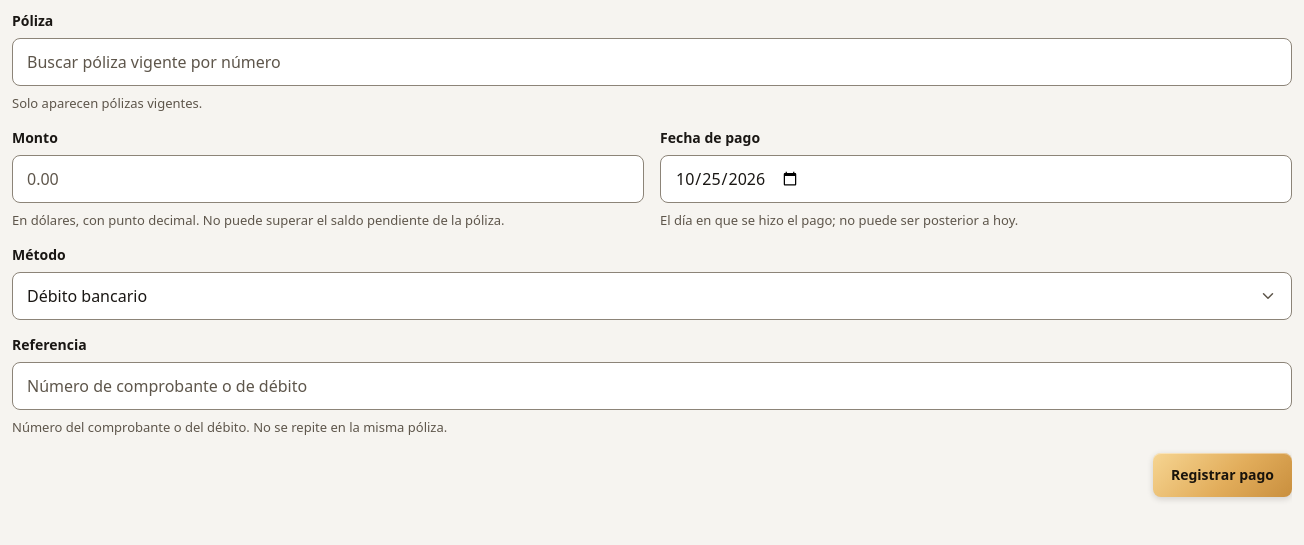
FormularioPago (HU-16) › muestra la póliza no vigente bajo la póliza
The image size is (1304, 545).
Type "POL" into the dropdown labelled "Póliza" at (652, 62), box [12, 38, 1292, 86]
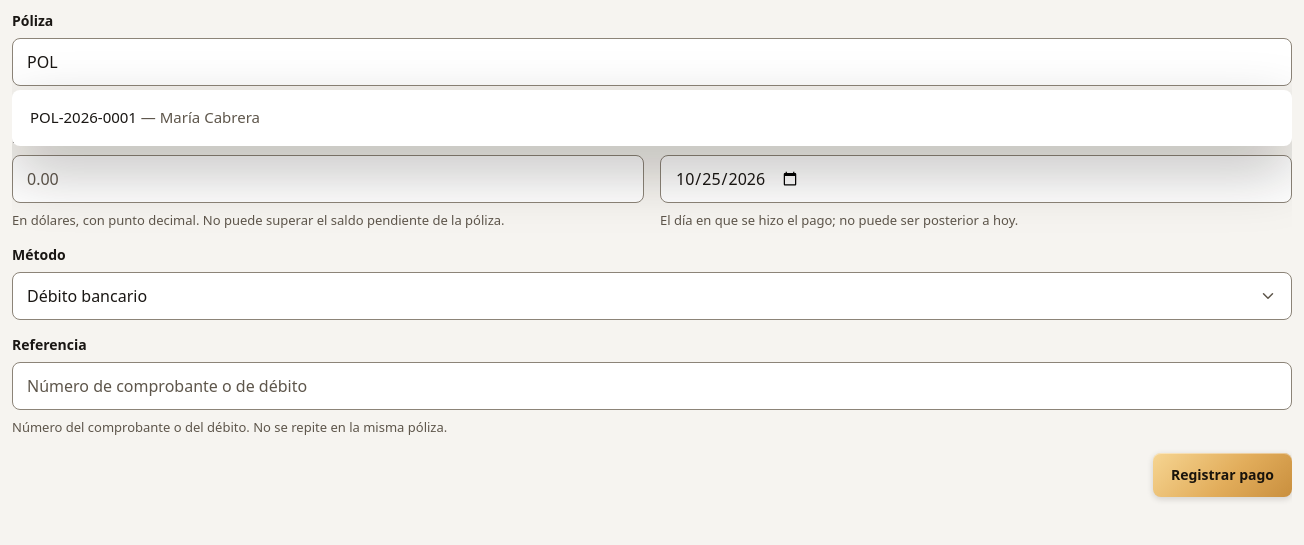
Click the option "POL-2026-0001 — María Cabrera" at (145, 117), box [30, 107, 260, 127]
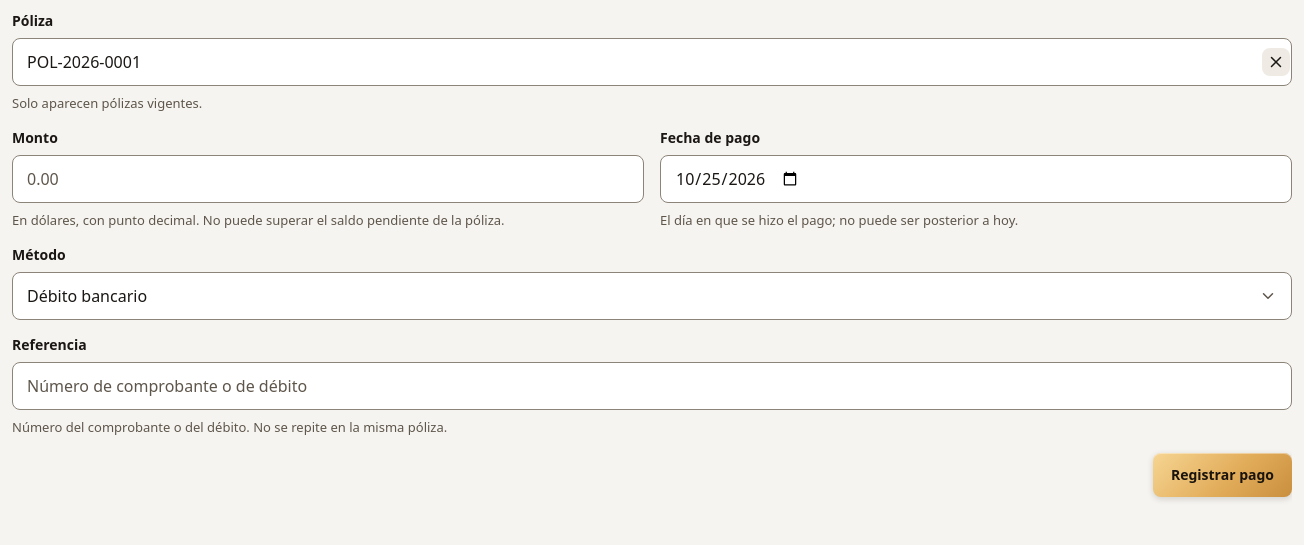
Type "10.00" into the field labelled "Monto" at (328, 179), box [12, 155, 644, 203]
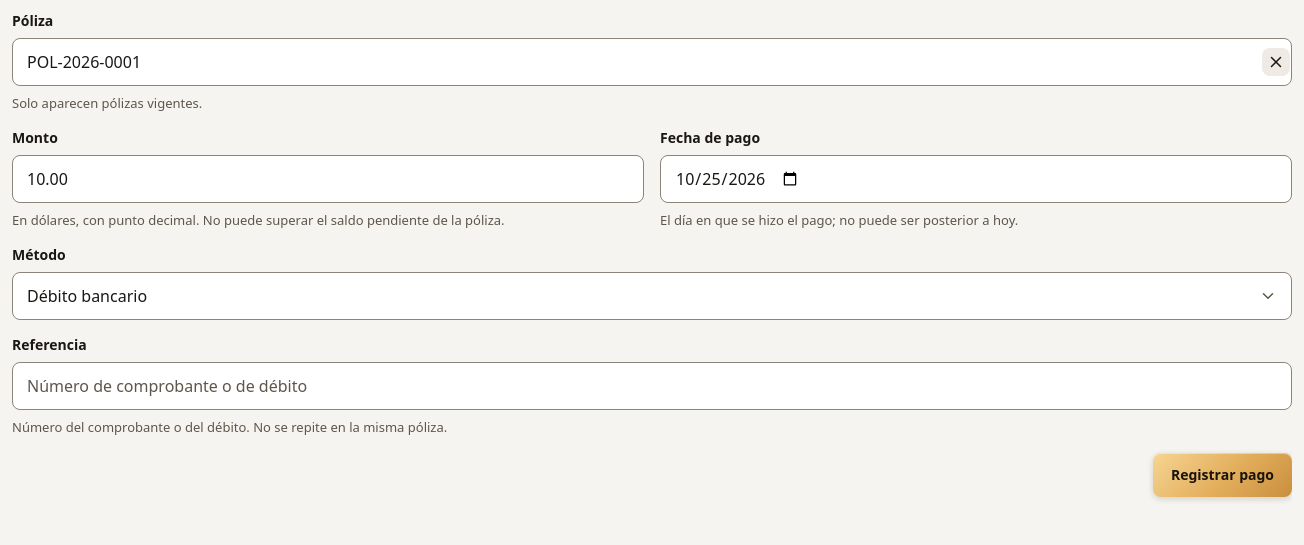
Type "DB-0003" into the field labelled "Referencia" at (652, 386), box [12, 362, 1292, 410]
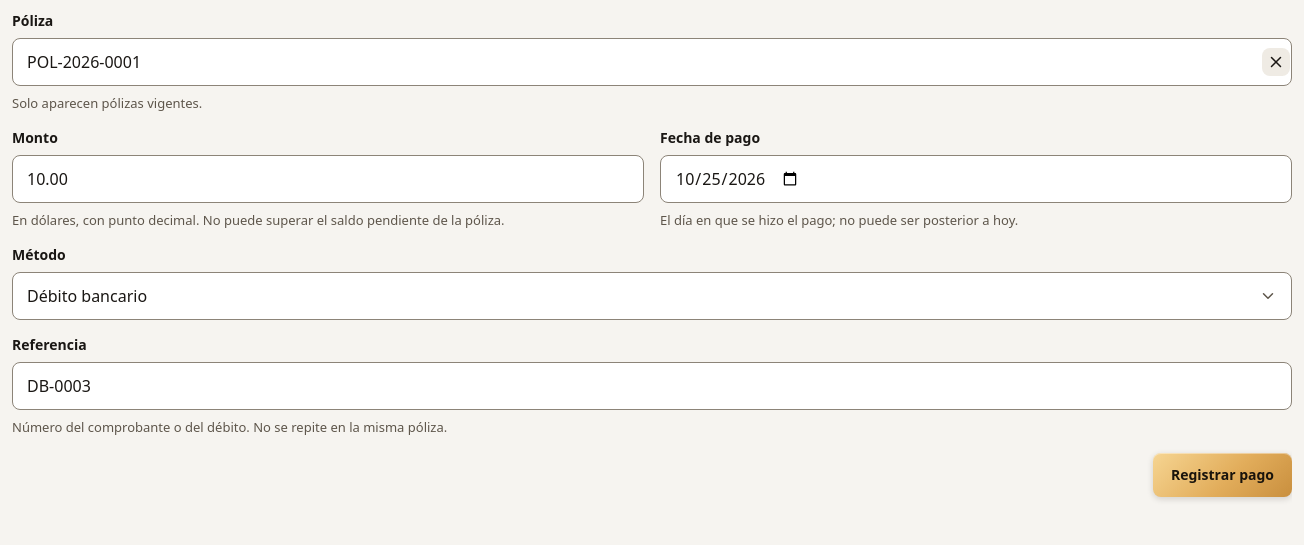
Click the button "Registrar pago" at (1222, 475), box [1153, 453, 1292, 497]
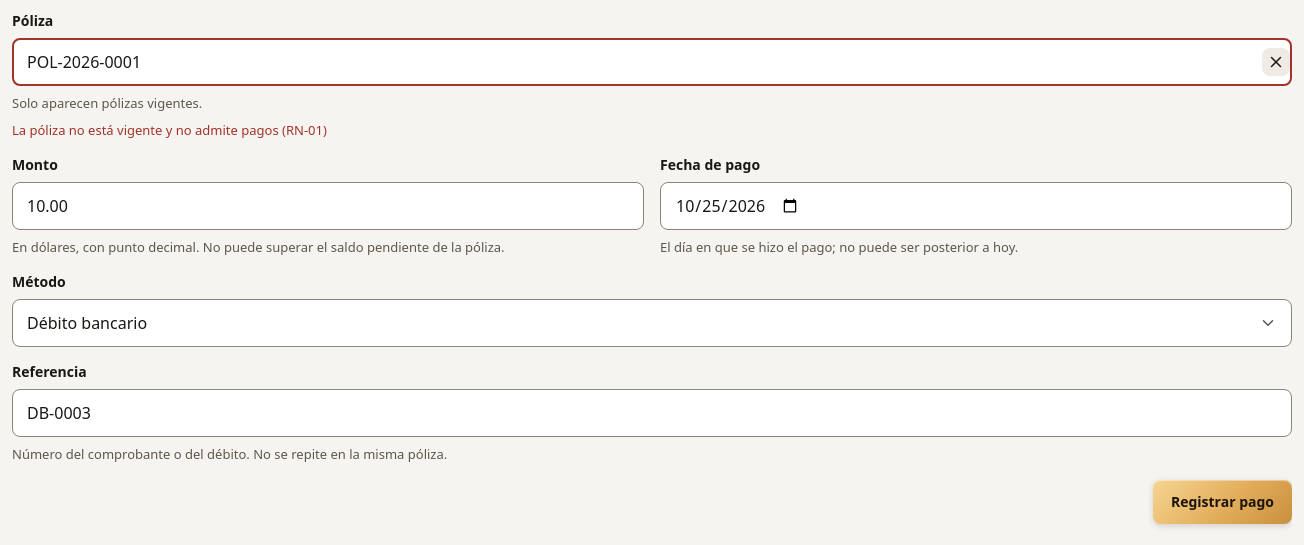
Now the text "La póliza no está vigente y no admite pagos (RN-01)" is shown, box [12, 121, 327, 139]
